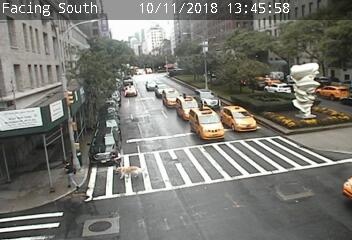car: (189, 107, 223, 140), (89, 128, 120, 164), (220, 105, 257, 131), (176, 96, 200, 120), (194, 89, 220, 110), (317, 85, 348, 100), (162, 89, 181, 109), (264, 83, 291, 96), (155, 83, 171, 99), (259, 77, 281, 87), (249, 80, 266, 91), (145, 80, 158, 90)
